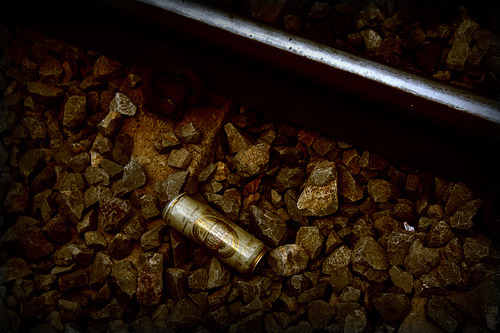litter: (160, 193, 269, 278)
